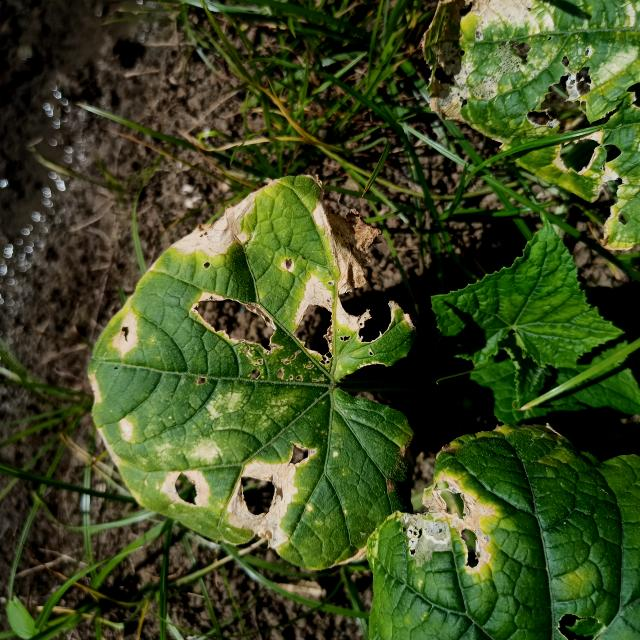disease_cucumber: (90, 178, 390, 558), (400, 470, 516, 572)
